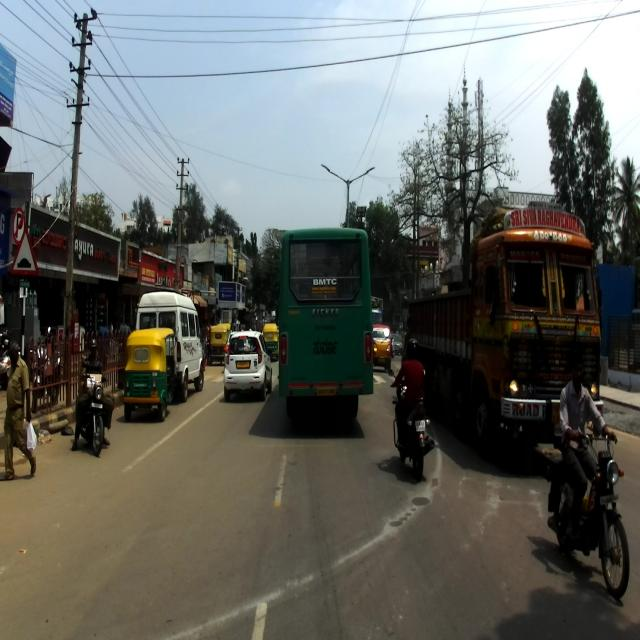Car_Maruti-Suzuki: (223, 332, 273, 402)
autorickshaw: (122, 327, 178, 422)
bus: (277, 226, 373, 418)
mini-bus: (129, 291, 206, 397)
motorcycle_Honda: (386, 367, 436, 481)
motorcycle_TVS: (540, 432, 630, 602), (75, 374, 110, 457)
truck: (404, 199, 604, 461)
